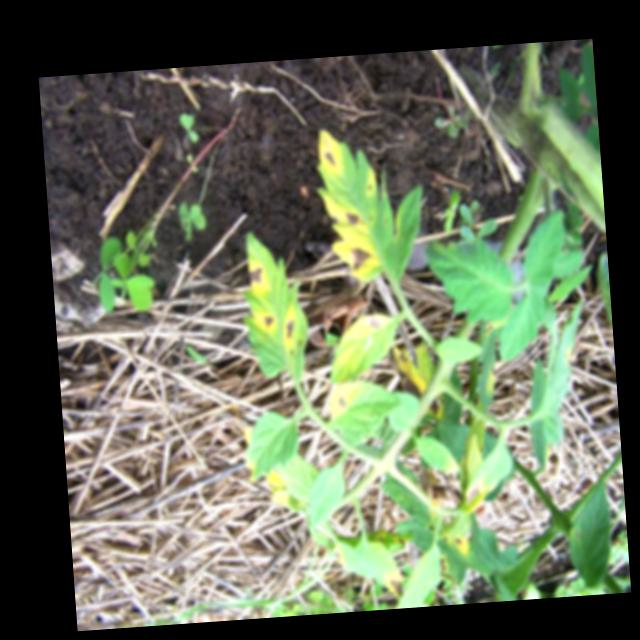Early_blight: (387, 347, 441, 417), (317, 127, 343, 178), (342, 243, 382, 276), (351, 313, 396, 336), (328, 382, 353, 418), (282, 304, 300, 352), (460, 477, 487, 508), (253, 311, 281, 338), (248, 262, 267, 297), (341, 209, 363, 231), (388, 576, 405, 599)
